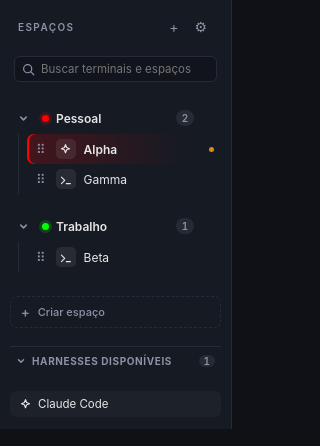
it: Sidebar › permite collapsar e expandir um espaço no sidebar
The image size is (320, 446).
Expected: the text "Alpha" is shown, [84,142,117,156]
Expected: the text "Gamma" is shown, [84,172,127,186]
Collapsa o espaço A
Click the button named "Recolher espaço Pessoal" at [24, 118], box [12,112,35,124]
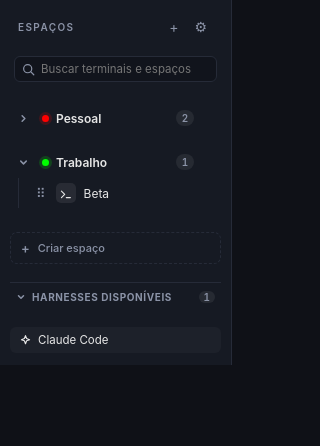
Expected: the text "Beta" is shown, [84,186,109,200]
Expected: the text "Alpha" is gone
Expected: the text "Gamma" is gone
Expande o espaço A novamente
Click the button named "Expandir espaço Pessoal" at [24, 118], box [12,112,35,124]
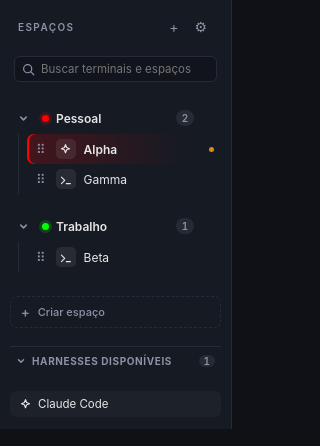
Expected: the text "Alpha" is shown, [84,142,117,156]
Expected: the text "Gamma" is shown, [84,172,127,186]
